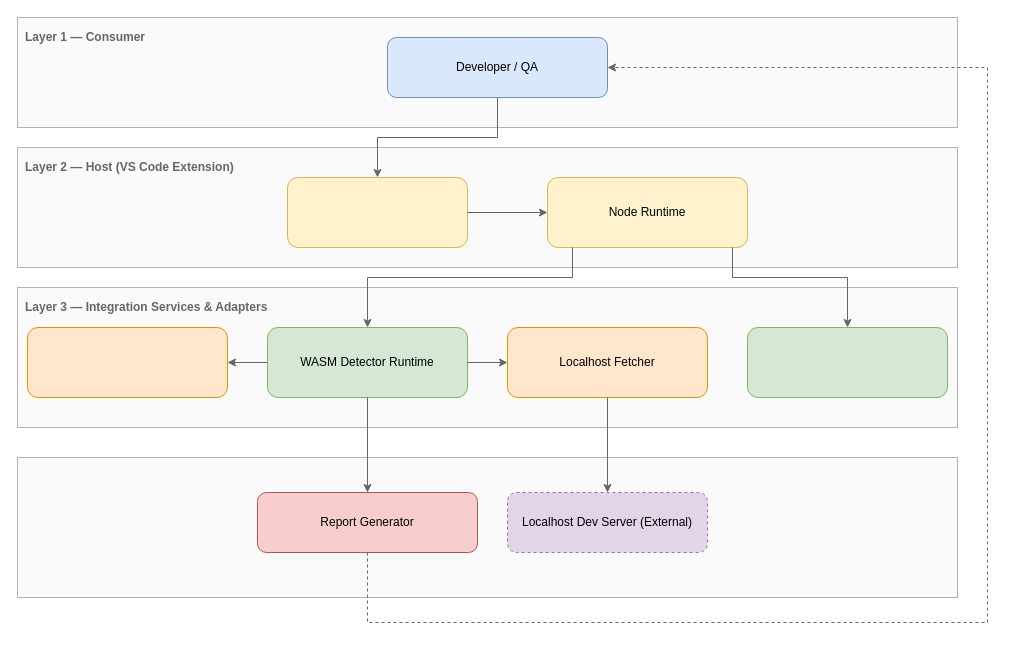
Some shapes in this 1013 by 648 pixel diagram are drawn without their labels. The box of each missing label's shape, as (x1, y1, x2, y2) in pixels:
File System Adapter: (26, 326, 228, 398)
Impeccable Skill Loader: (746, 326, 948, 398)
Layer 4 — Output / External: (16, 456, 958, 598)
SDLC Agents Extension Host: (286, 176, 468, 248)
